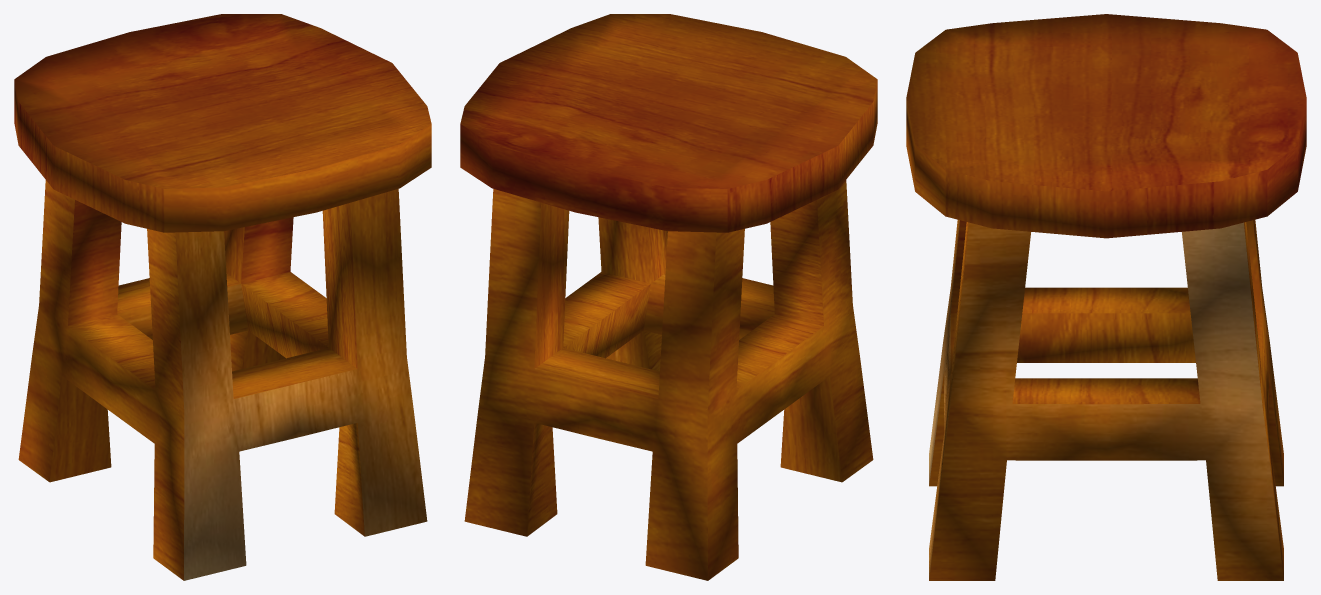
The model's file is tabaret.fbx.
3 views of the same model, side by side, from view 1: azimuth 30°, elevation 25°; view 2: azimuth 150°, elevation 25°; view 3: azimuth 270°, elevation 25° (orthographic). The views are drawn at different scales.
Parts seen in each view (by area): view 1: objets:T2_Tabouret; view 2: objets:T2_Tabouret; view 3: objets:T2_Tabouret.
Boxes of the visible parts, x1,y1,x2,y2 form: objets:T2_Tabouret: [14, 14, 431, 580]; objets:T2_Tabouret: [460, 14, 877, 580]; objets:T2_Tabouret: [906, 14, 1306, 580].
Size of the model in its own units: 25.71 by 28.3 by 24.54.
